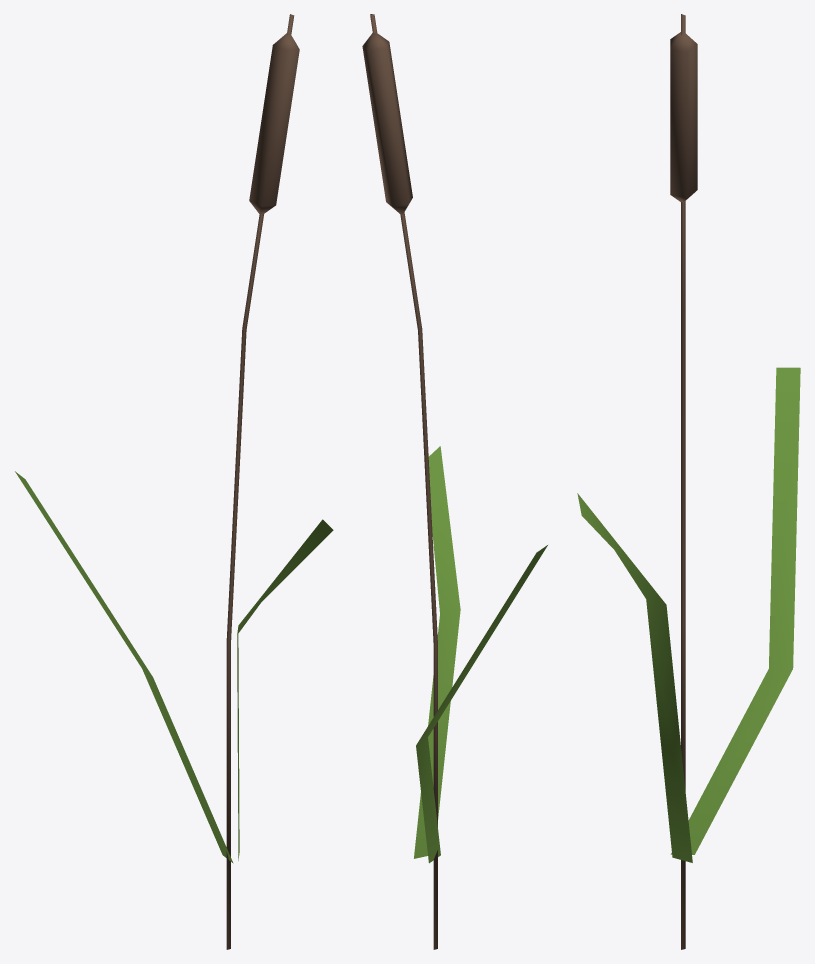
Rendered from Reed_0.fbx.
The picture shows the model from 3 angles, left to right: view 1: azimuth 30°, elevation 25°; view 2: azimuth 150°, elevation 25°; view 3: azimuth 270°, elevation 25°; orthographic projection. The views are drawn at different scales.
Visible parts, largest first — view 1: Reed 0; view 2: Reed 0; view 3: Reed 0.
Part boxes in pixels (x1,y1,x2,y2): Reed 0: (15, 14, 333, 949); Reed 0: (362, 14, 547, 949); Reed 0: (577, 14, 800, 949).
Bounding box in the file's own units: 72.17 × 277 × 58.1.
